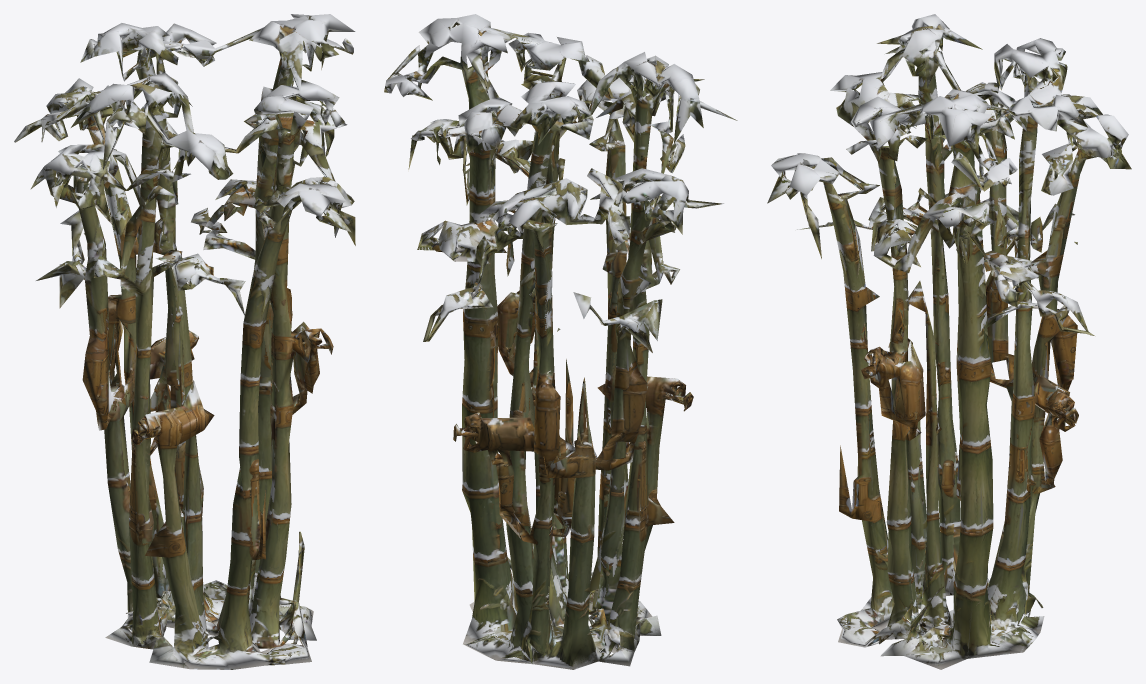
The model's file is PR_Bamboo.fbx.
3 renders of one model, left to right at view 1: azimuth 30°, elevation 25°; view 2: azimuth 150°, elevation 25°; view 3: azimuth 270°, elevation 25°, orthographic. The views are drawn at different scales.
Parts seen in each view (by area): view 1: texture_mapping; view 2: texture_mapping; view 3: texture_mapping.
Part boxes in pixels (box(x1,y1,x2,y2)): texture_mapping: box(14, 14, 355, 669); texture_mapping: box(384, 14, 737, 669); texture_mapping: box(767, 14, 1131, 669).
Bounding box in the file's own units: 0.5524 × 0.5695 × 0.9848.
Materials: 1 (1 with a texture image).
